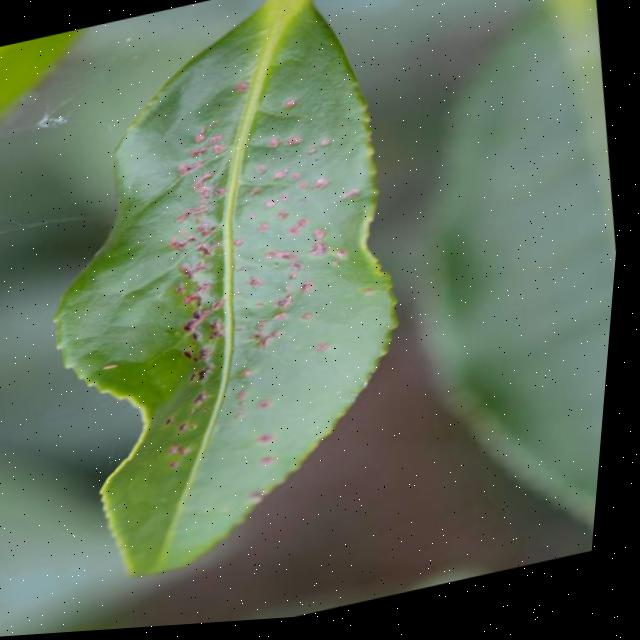Tea red scab: (110, 57, 411, 505)
